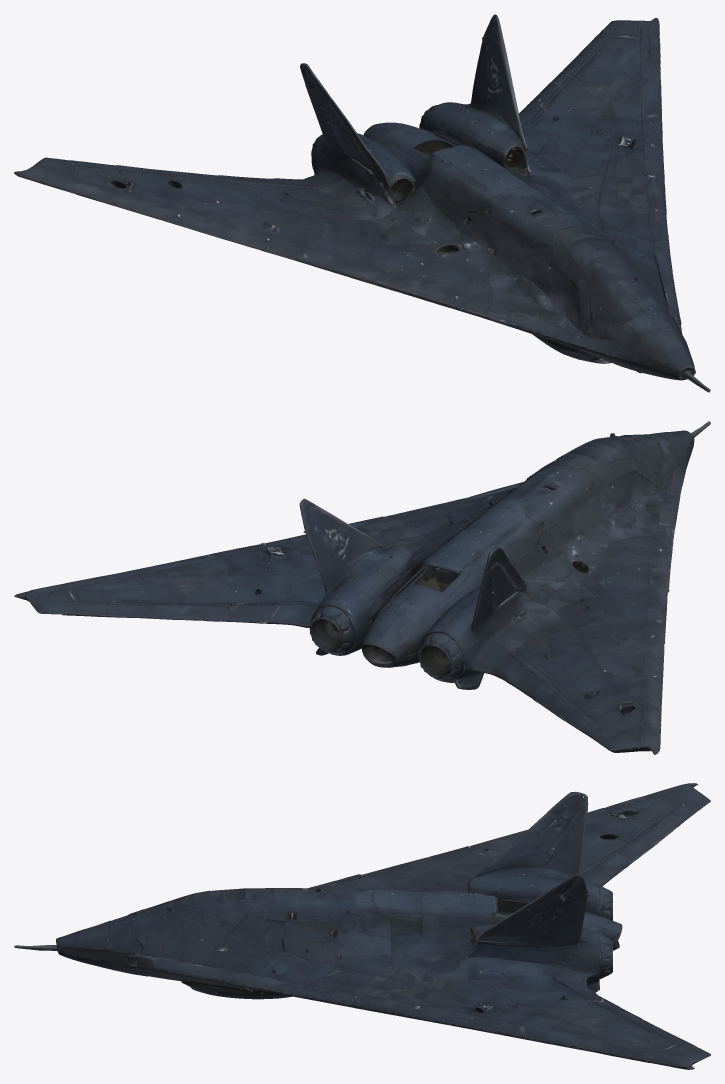
Rendered from hayalet.glb.
The picture shows the model from 3 angles, top to bottom: view 1: azimuth 30°, elevation 25°; view 2: azimuth 150°, elevation 25°; view 3: azimuth 270°, elevation 25°; orthographic projection. The views are drawn at different scales.
Parts seen in each view (by area): view 1: tripo_node_40c40197-d022-403e-9076-251c4c6a21c2; view 2: tripo_node_40c40197-d022-403e-9076-251c4c6a21c2; view 3: tripo_node_40c40197-d022-403e-9076-251c4c6a21c2.
Part boxes in pixels (x1,y1,x2,y2): tripo_node_40c40197-d022-403e-9076-251c4c6a21c2: [14, 14, 710, 392]; tripo_node_40c40197-d022-403e-9076-251c4c6a21c2: [14, 421, 710, 754]; tripo_node_40c40197-d022-403e-9076-251c4c6a21c2: [14, 783, 710, 1069].
Bounding box in the file's own units: 0.9674 × 0.2588 × 1.
Materials: 1 (1 with a texture image).
